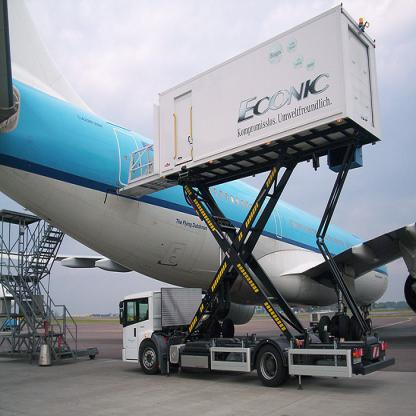Catering truck: (102, 5, 389, 373)
